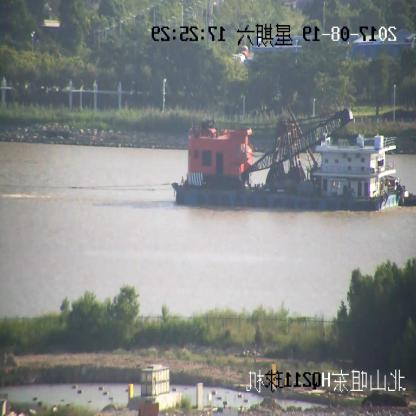Fishing Boat: (176, 100, 416, 212)
